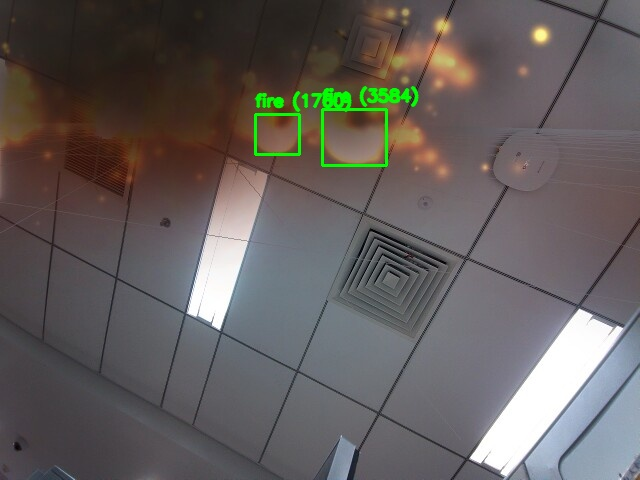fire: (322, 109, 386, 165), (255, 114, 299, 154)
